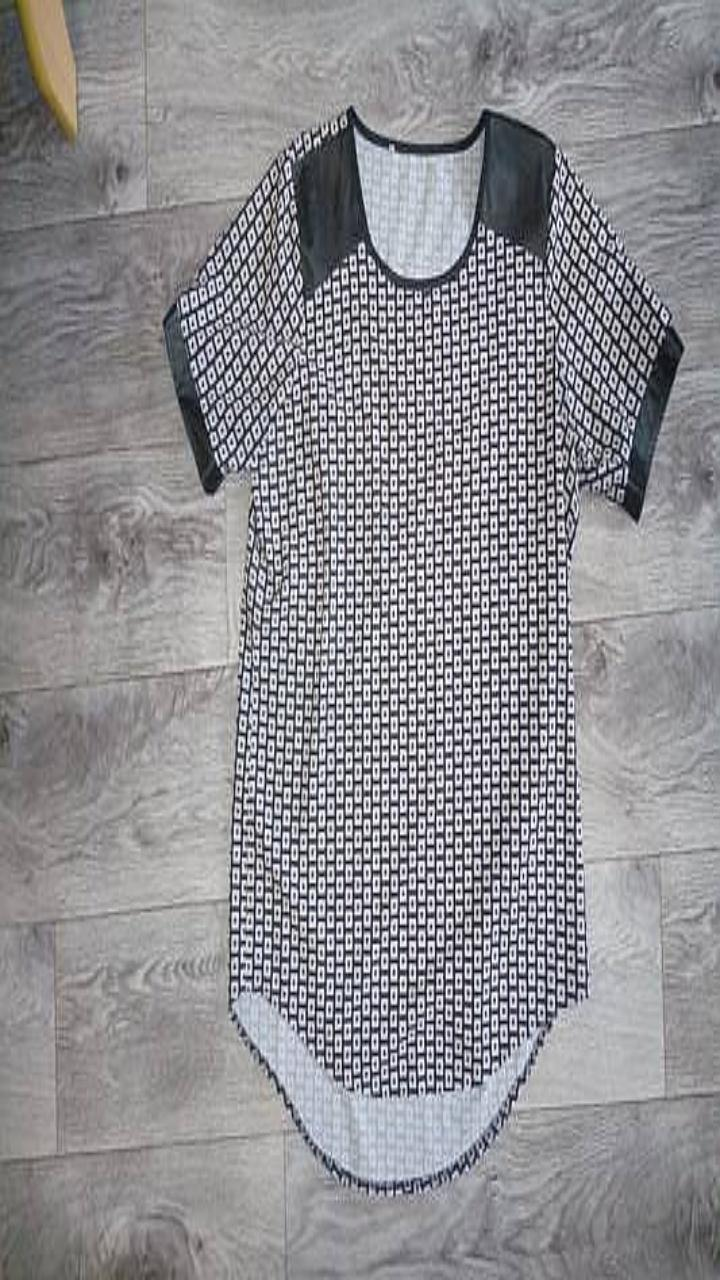T-Shirt: (164, 105, 682, 1193)
